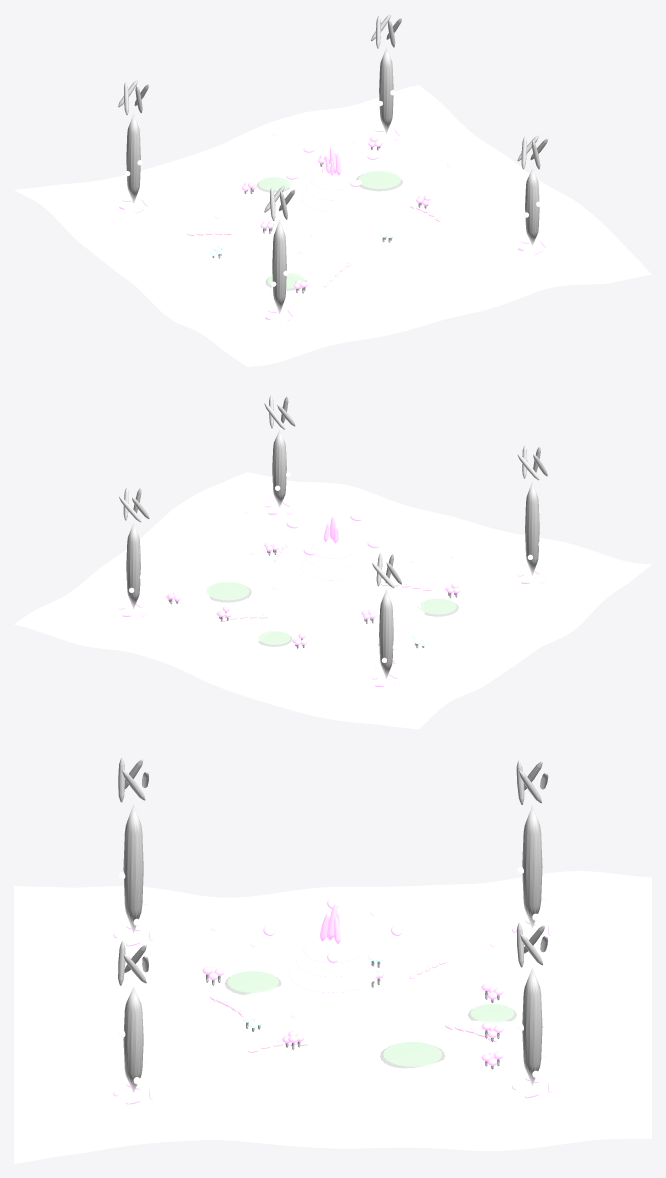
Rendered from corrupted_wilds_r2_v3.glb.
3 views of the same model, one above another, from view 1: azimuth 30°, elevation 25°; view 2: azimuth 150°, elevation 25°; view 3: azimuth 270°, elevation 25° (orthographic). The views are drawn at different scales.
Visible parts, largest first — view 1: cw_terrain, tree_0_trunk, tree_2_trunk, tree_3_trunk, tree_1_trunk, alt_b1, alt_b3, mire_1_p, alt_b2; view 2: cw_terrain, tree_0_trunk, tree_2_trunk, tree_3_trunk, tree_1_trunk, alt_b1, alt_b3, mire_1_p, alt_b2, mire_0_p; view 3: cw_terrain, tree_0_trunk, tree_2_trunk, tree_3_trunk, tree_1_trunk, alt_b1, mire_1_p, alt_b3, alt_b2, mire_0_p, mire_2_p.
Part boxes in pixels (left/top/right/bottom): cw_terrain: left=14, top=85, right=651, bottom=366; tree_0_trunk: left=272, top=220, right=286, bottom=313; tree_2_trunk: left=126, top=114, right=140, bottom=203; tree_3_trunk: left=379, top=48, right=393, bottom=133; tree_1_trunk: left=525, top=168, right=539, bottom=245; alt_b1: left=300, top=190, right=365, bottom=212; alt_b3: left=311, top=171, right=354, bottom=190; mire_1_p: left=358, top=170, right=400, bottom=188; alt_b2: left=306, top=182, right=359, bottom=200; cw_terrain: left=14, top=472, right=651, bottom=729; tree_0_trunk: left=525, top=481, right=539, bottom=575; tree_2_trunk: left=379, top=589, right=393, bottom=678; tree_3_trunk: left=126, top=523, right=140, bottom=608; tree_1_trunk: left=272, top=430, right=286, bottom=507; alt_b1: left=300, top=559, right=365, bottom=581; alt_b3: left=311, top=539, right=354, bottom=559; mire_1_p: left=206, top=582, right=249, bottom=600; alt_b2: left=306, top=551, right=359, bottom=569; mire_0_p: left=420, top=598, right=456, bottom=614; cw_terrain: left=14, top=871, right=651, bottom=1163; tree_0_trunk: left=123, top=804, right=143, bottom=933; tree_2_trunk: left=522, top=805, right=542, bottom=928; tree_3_trunk: left=522, top=968, right=542, bottom=1085; tree_1_trunk: left=123, top=987, right=143, bottom=1092; alt_b1: left=288, top=963, right=377, bottom=993; mire_1_p: left=383, top=1041, right=442, bottom=1066; alt_b3: left=303, top=937, right=362, bottom=964; alt_b2: left=296, top=952, right=369, bottom=977; mire_0_p: left=227, top=971, right=278, bottom=992; mire_2_p: left=470, top=1004, right=514, bottom=1022.
Bounding box in the file's own units: 16 × 5.67 × 16.
